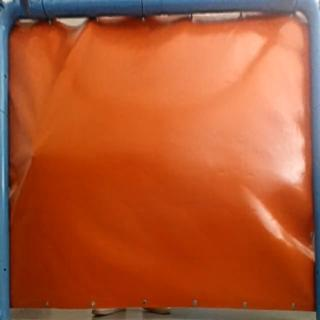Hit-hRxx: (27, 142, 43, 164)
